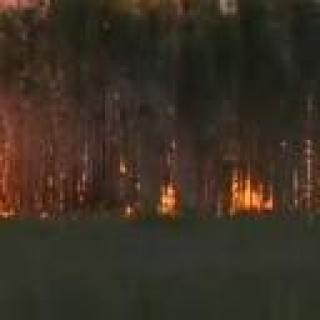fire: (222, 162, 274, 210), (160, 182, 182, 222)
